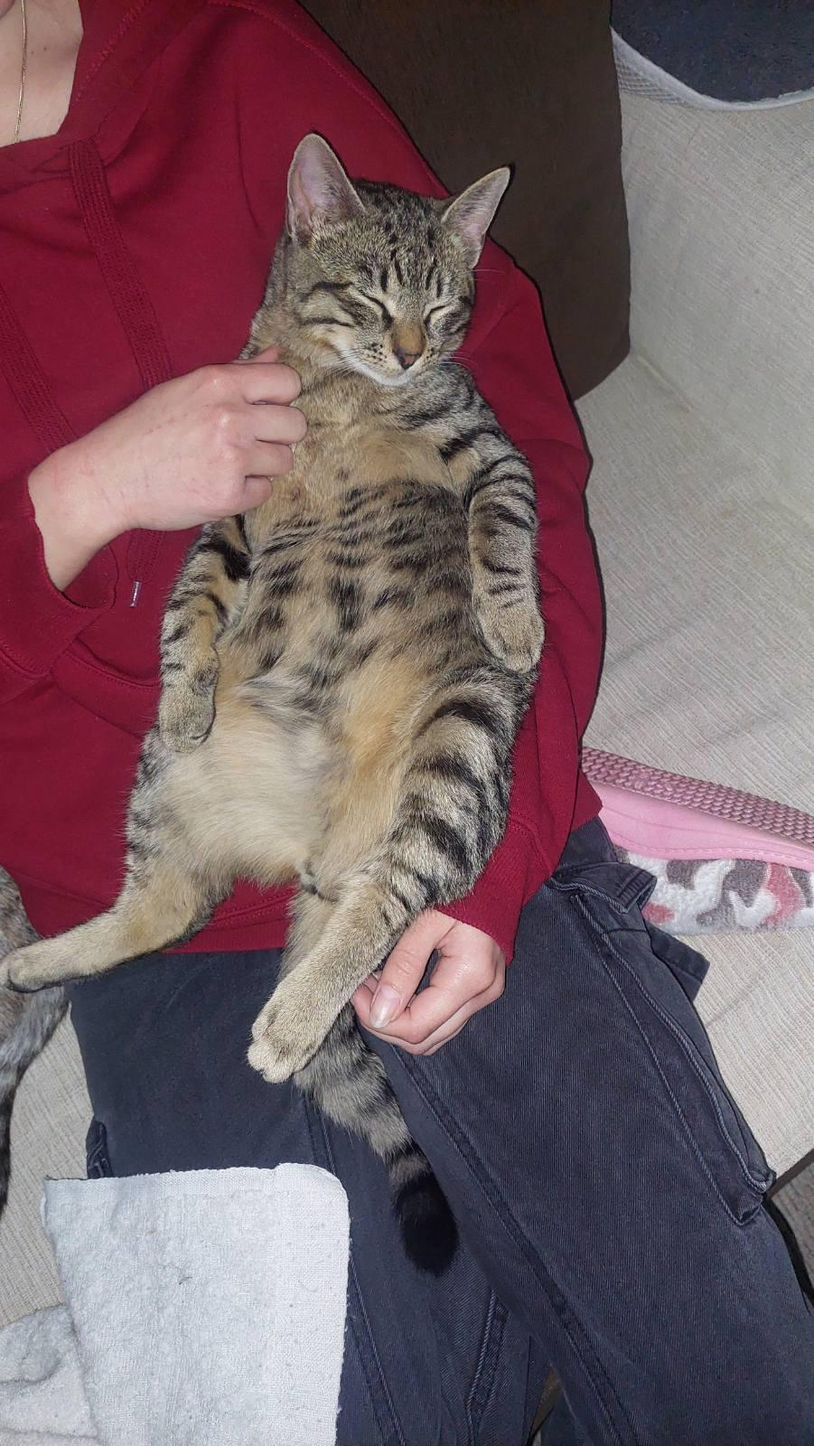macka: (0, 133, 546, 1277)
